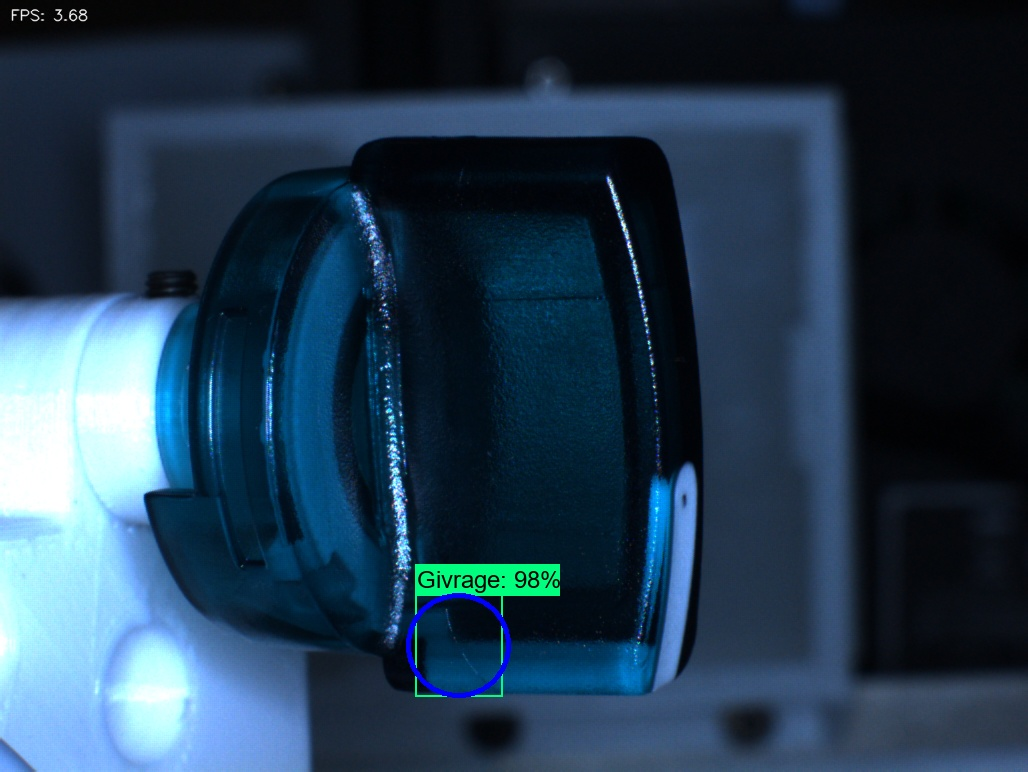PointNoir: (650, 471, 714, 535)
